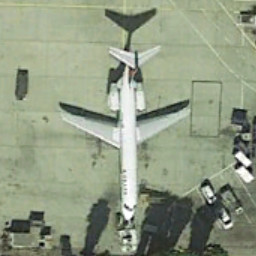Airplane: (55, 39, 193, 231)
